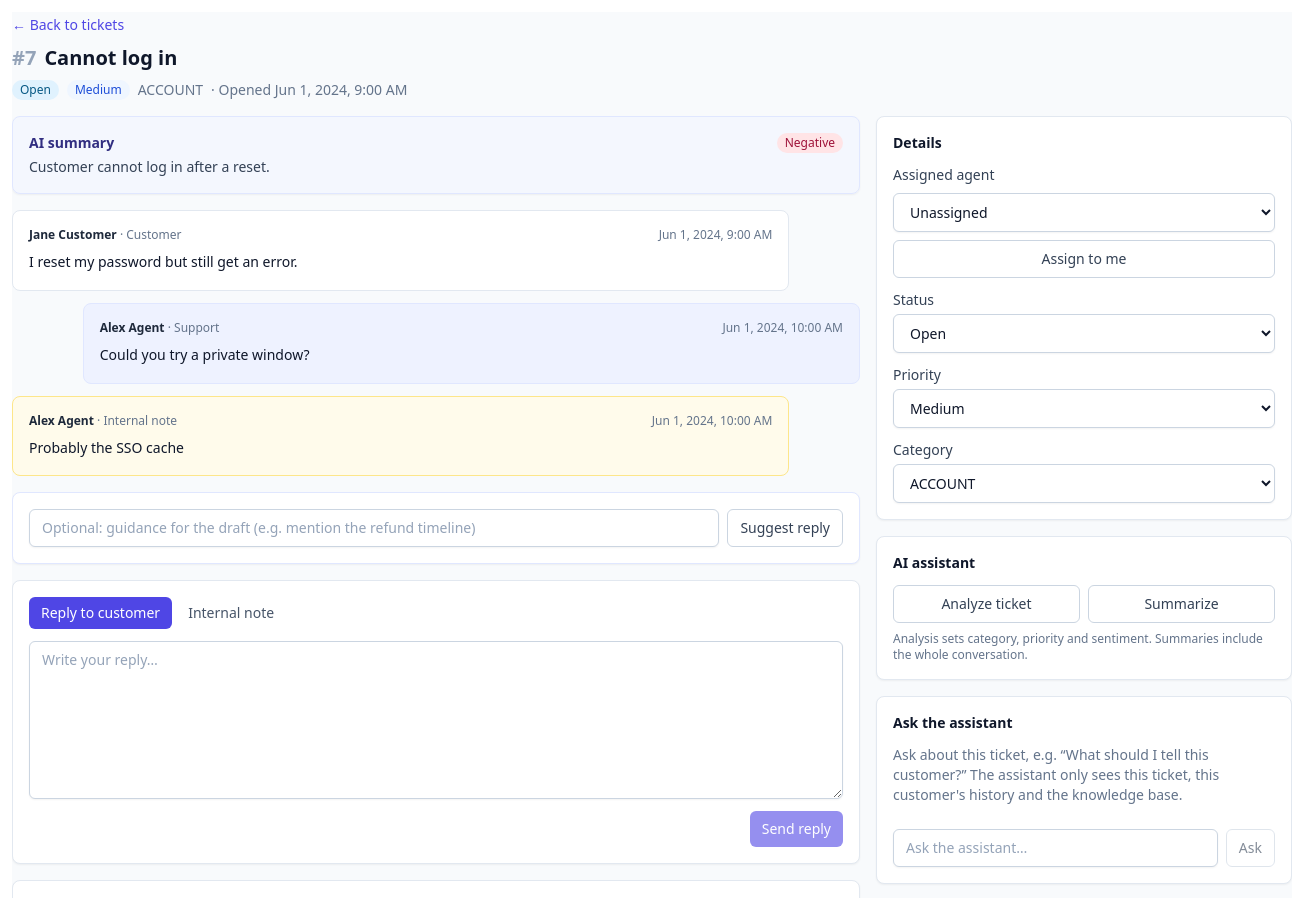
Scenario: TicketDetailPage for agents › sends a reply to the customer
This screenshot has width=1292, height=898.
Expected: the heading "#7Cannot log in" is shown, [12, 44, 177, 71]
Type "Please clear your cache." into the text box labelled "reply". click: [436, 720]
box: [29, 641, 843, 799]
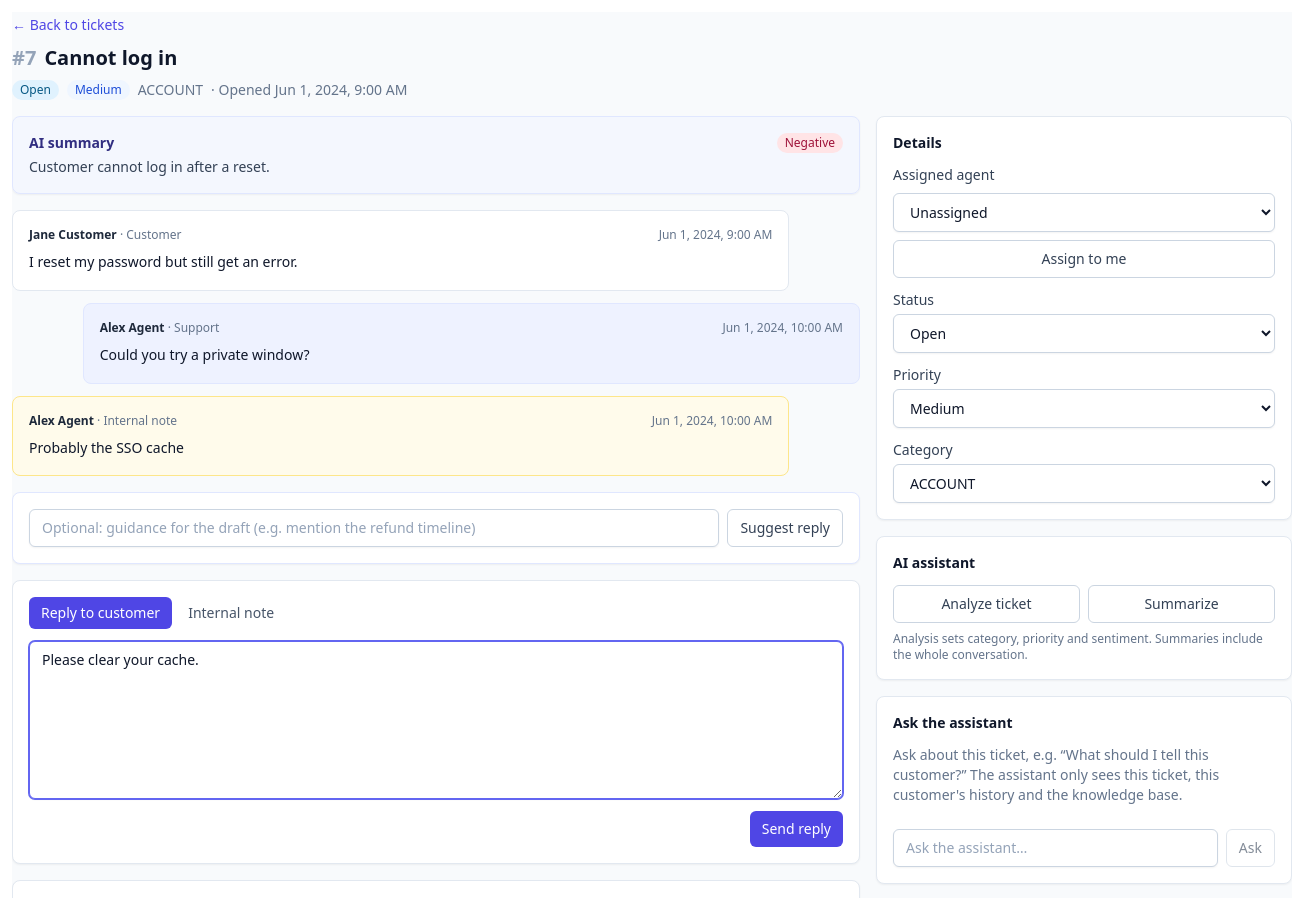
Click the button "Send reply". click: [796, 829]
box: [750, 811, 843, 847]
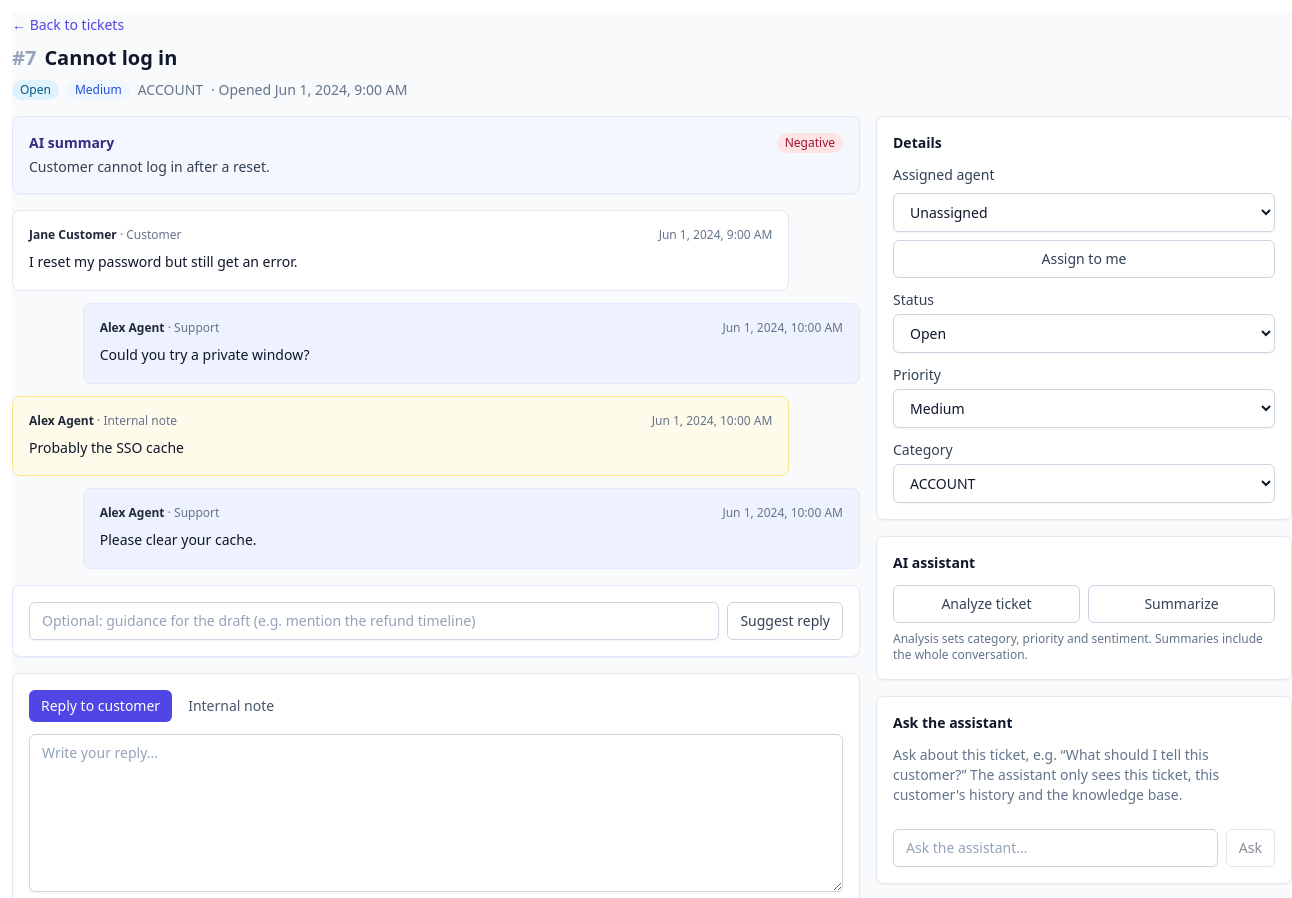
Now the text "Please clear your cache." is shown, box [100, 530, 257, 549]
Now the text box labelled "reply" is empty, box [29, 734, 843, 892]
